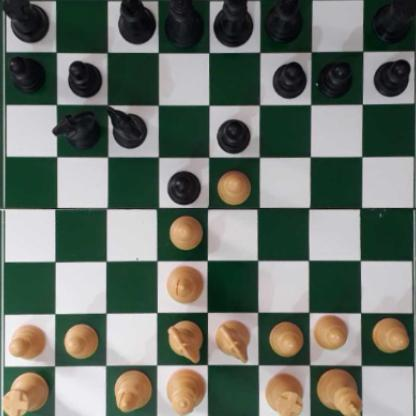black-bishop: (264, 0, 303, 43), (117, 0, 156, 42)
black-king: (215, 0, 254, 49)
black-knight: (56, 109, 99, 149), (105, 105, 146, 146)
black-pawn: (6, 55, 45, 94), (373, 57, 410, 97), (215, 114, 252, 152), (318, 57, 352, 96), (67, 57, 100, 97), (167, 168, 202, 205), (272, 61, 305, 98)
black-queen: (163, 0, 205, 45)
black-rook: (0, 0, 51, 44), (371, 0, 416, 42)
white-bishop: (113, 368, 150, 413), (166, 263, 204, 302)
white-king: (317, 367, 361, 416)
white-knight: (214, 319, 251, 361), (167, 321, 204, 362)
white-pawn: (6, 322, 48, 359), (371, 316, 409, 351), (63, 322, 99, 358), (215, 168, 252, 203), (168, 212, 203, 249), (314, 313, 348, 350), (269, 320, 303, 356)
white-queen: (166, 365, 204, 416)
white-rook: (0, 371, 49, 416), (265, 374, 304, 416)
